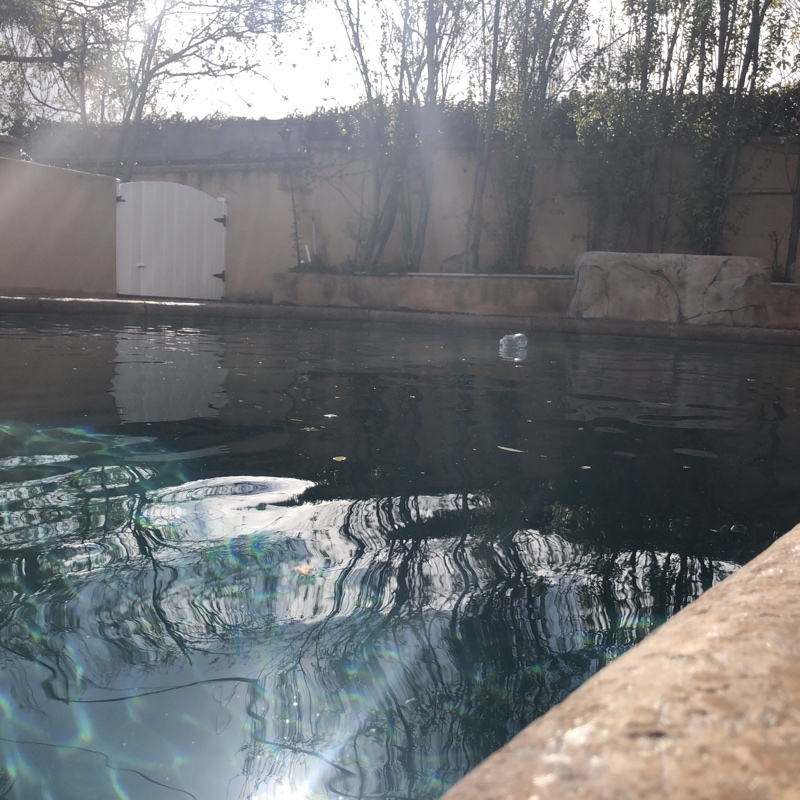Plastic Bottle: (497, 333, 525, 348)
